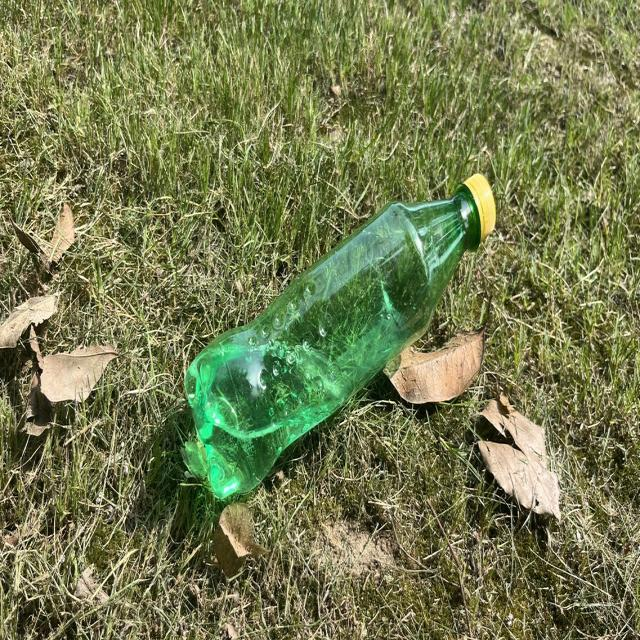low: (186, 174, 495, 498)
